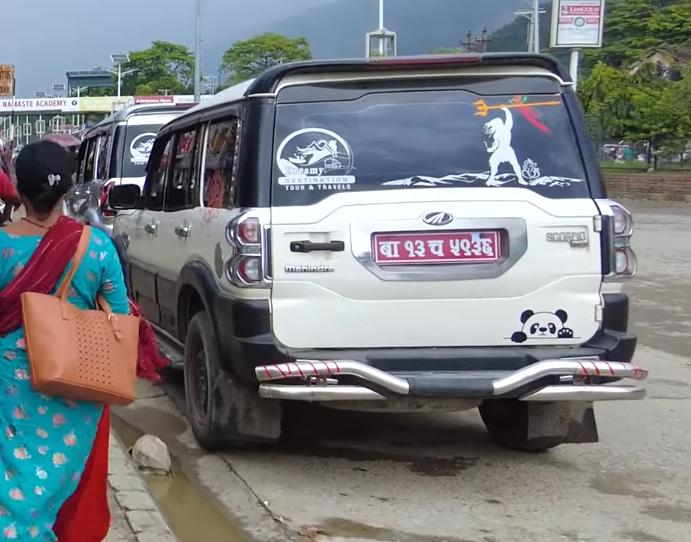SUV: (117, 42, 650, 461)
